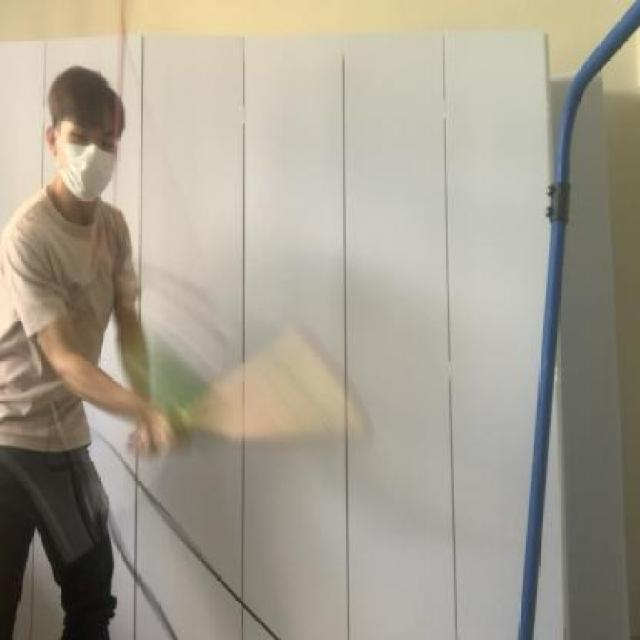baseball: (110, 319, 236, 467)
